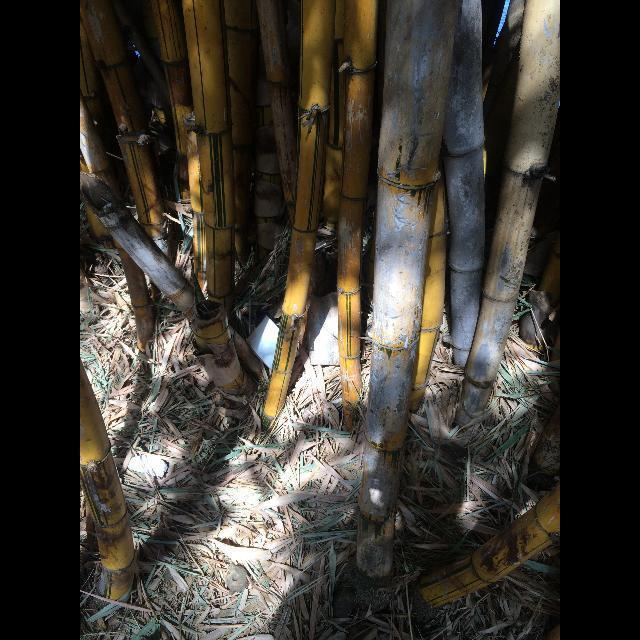Plastic: (247, 314, 279, 370)
